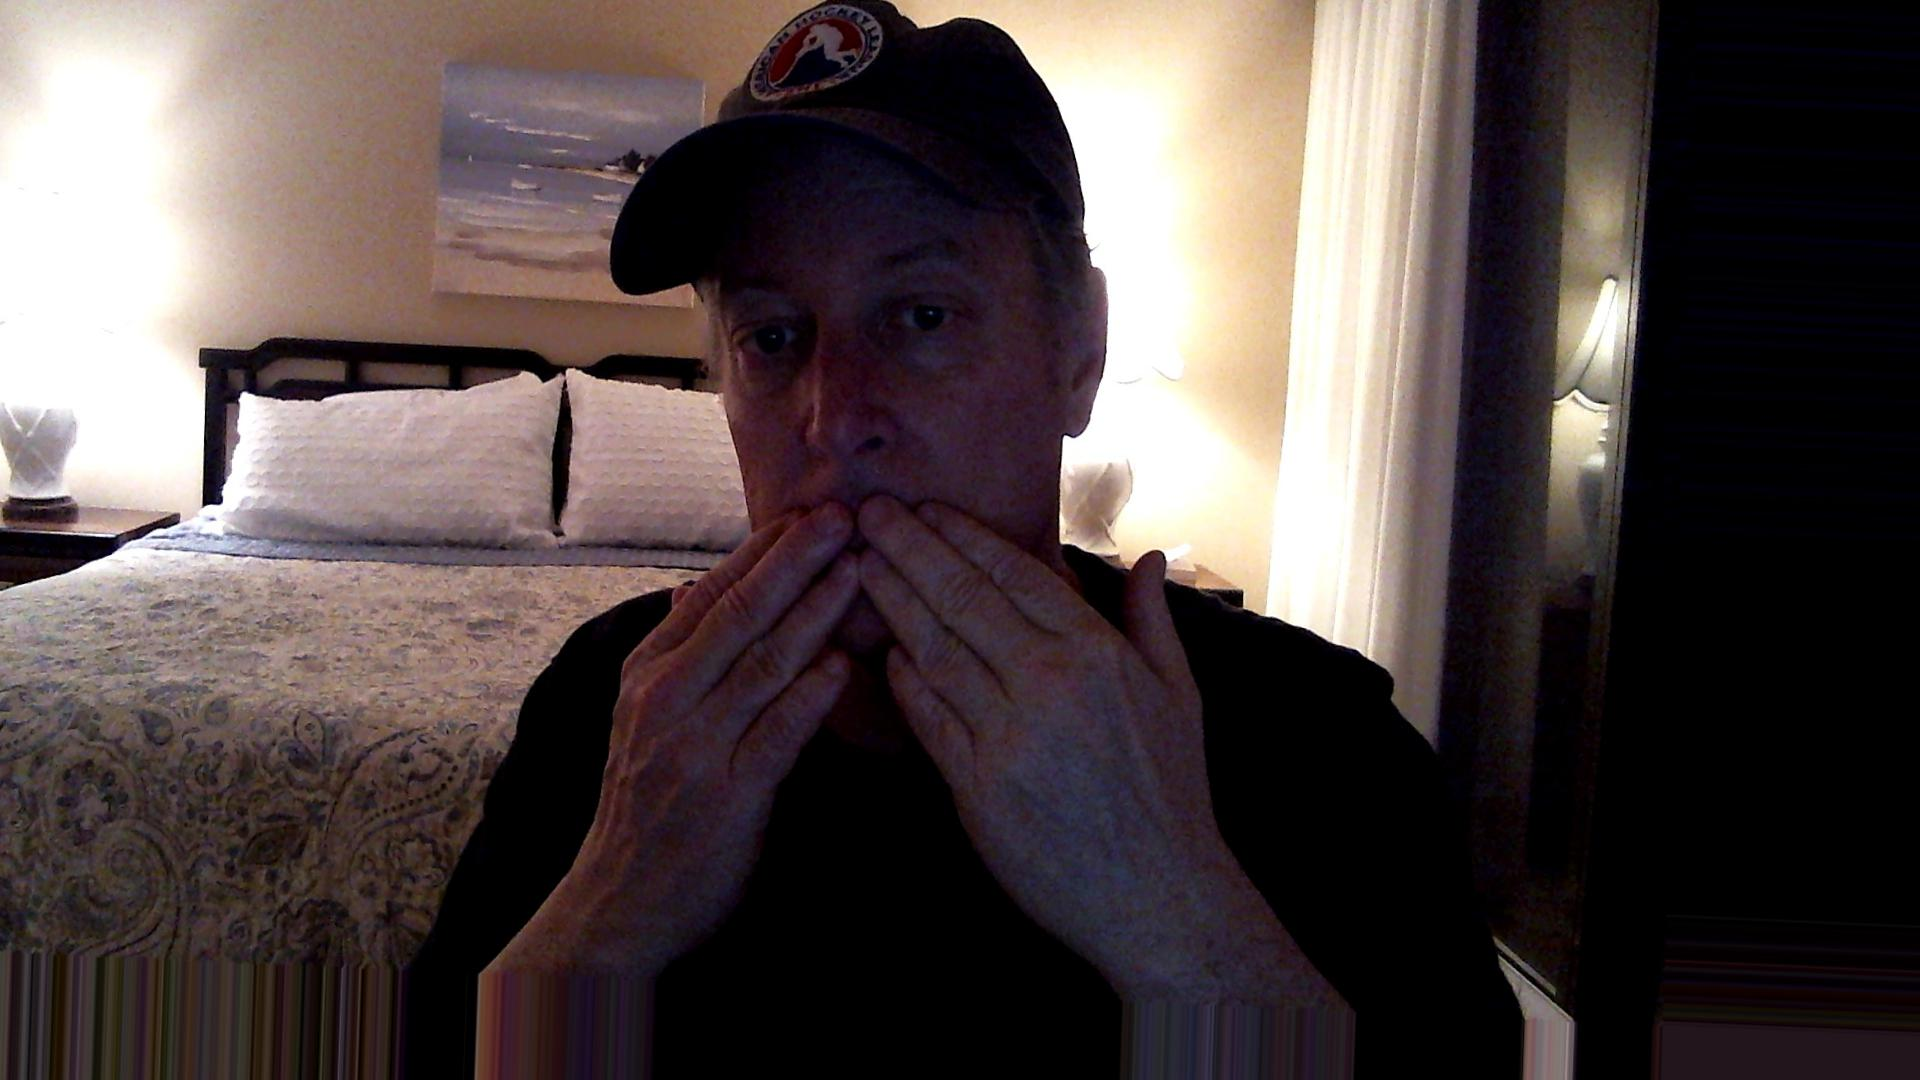Thank You: (562, 491, 1251, 922)
